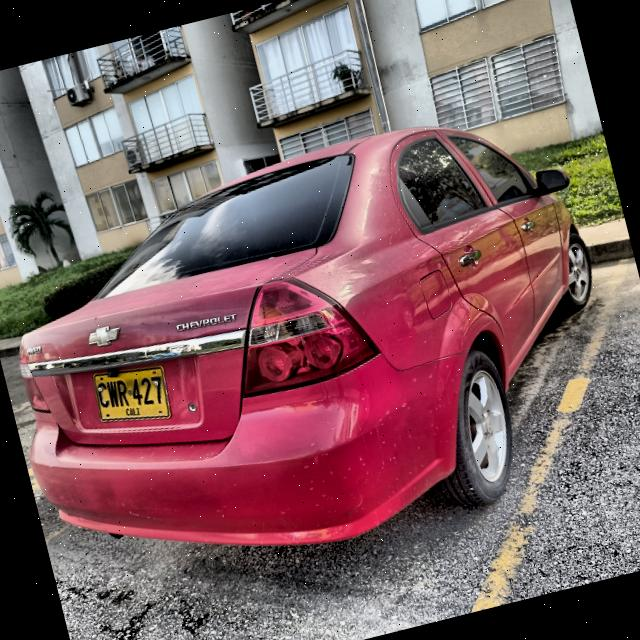plate: (94, 367, 169, 420)
